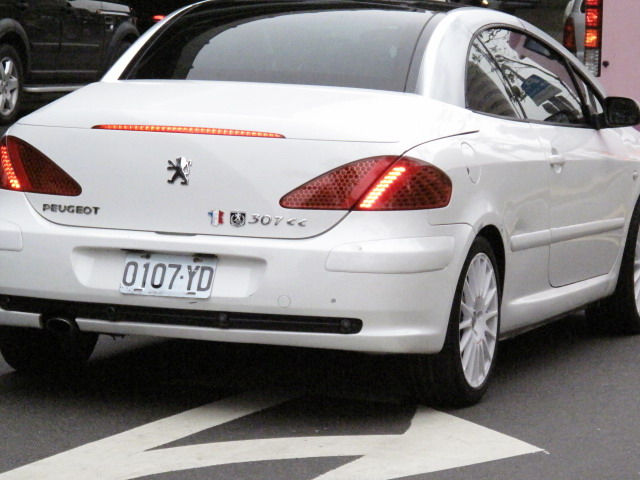plate: (119, 247, 218, 301)
